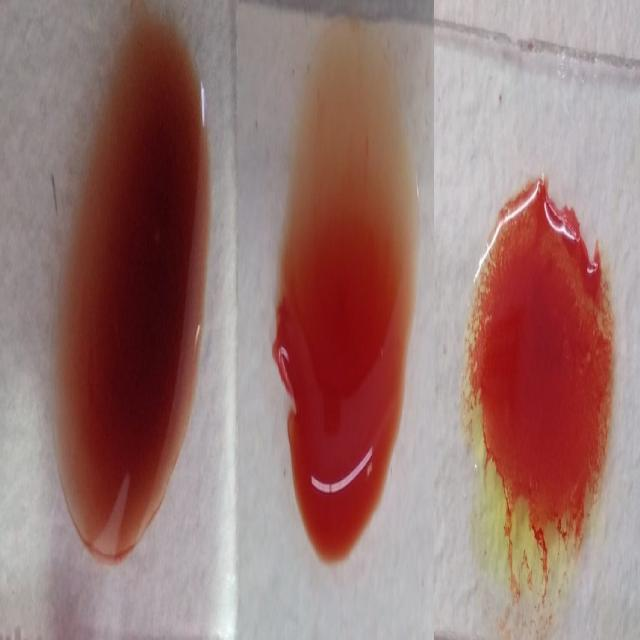B: (463, 192, 616, 610)
